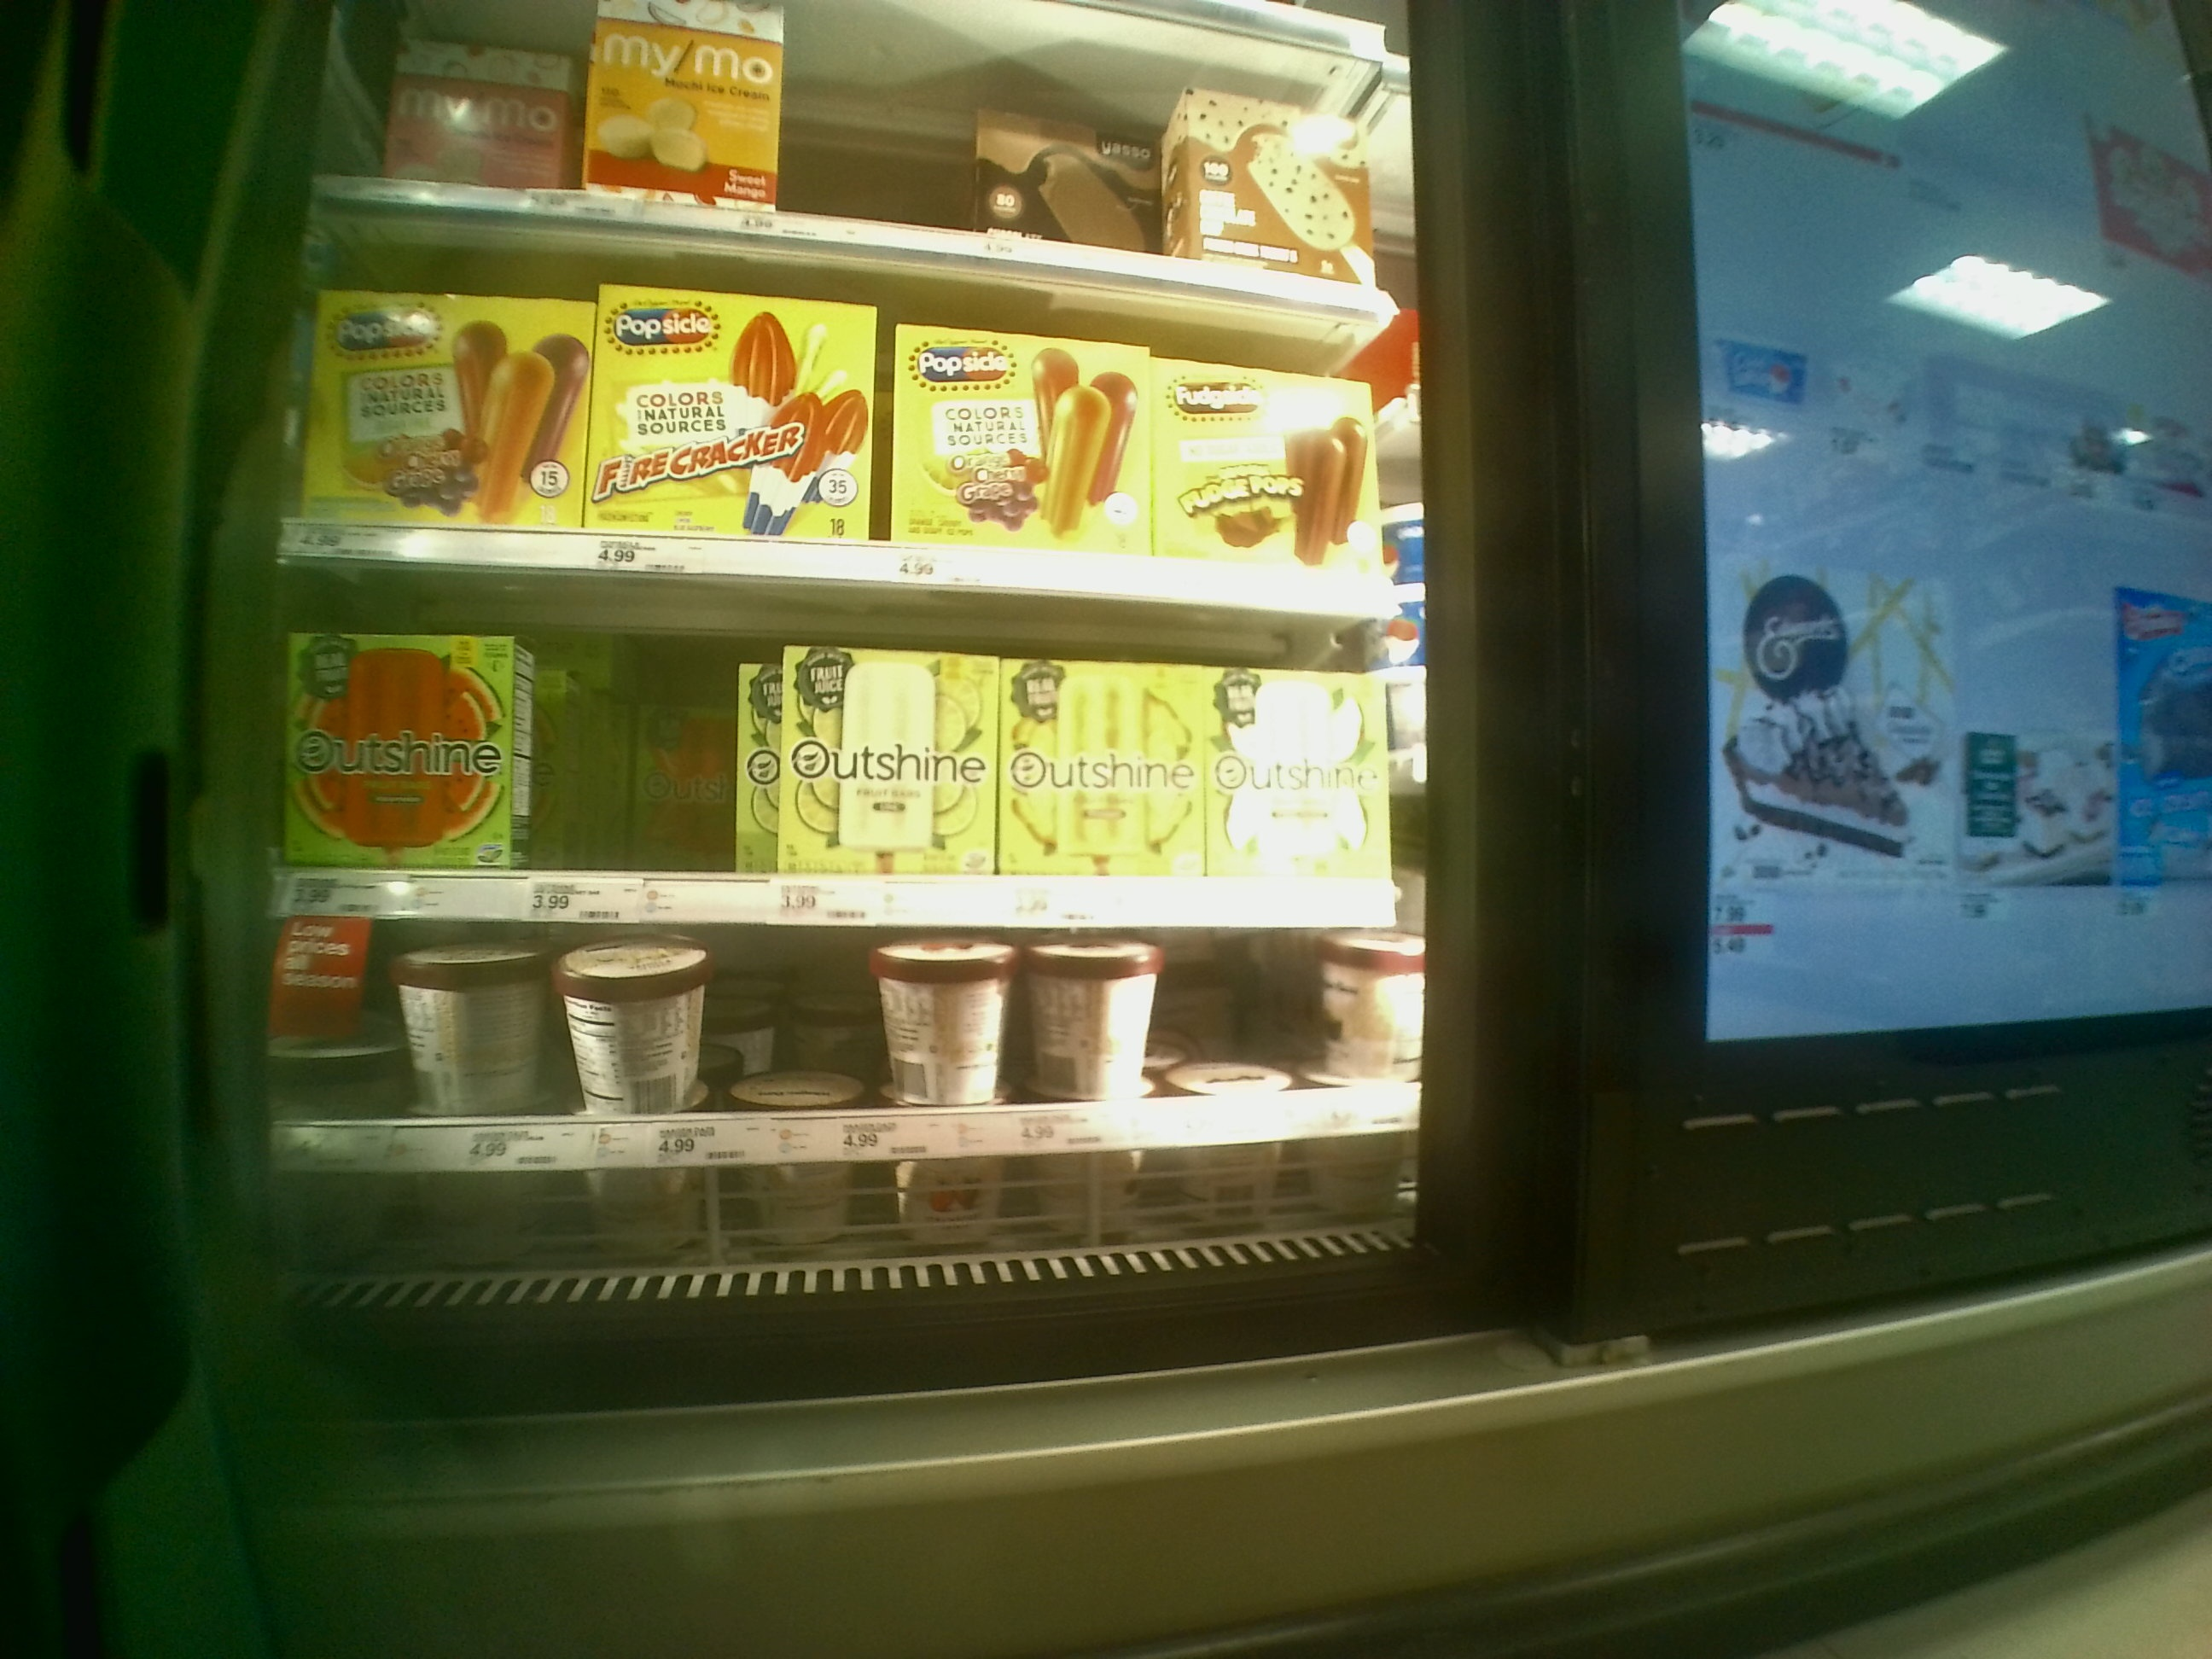ice-cream-shelf: (286, 558, 1395, 924), (286, 918, 1418, 1166)
